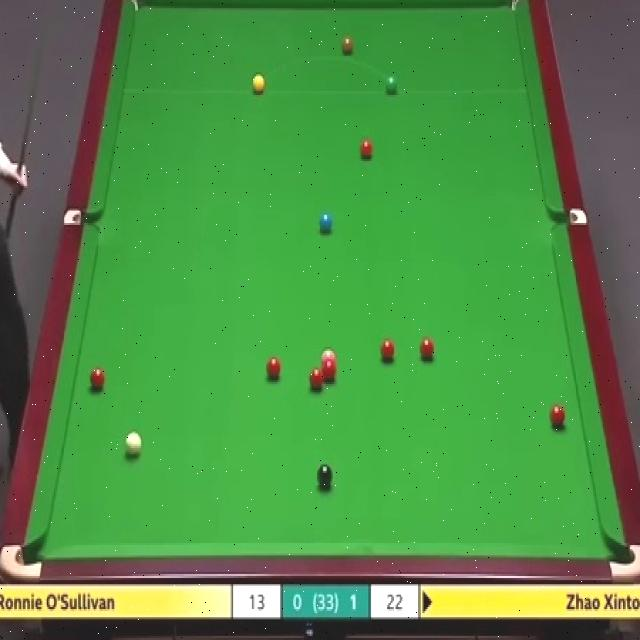black-ball: (317, 462, 334, 489)
blue-ball: (318, 210, 332, 233)
brown-ball: (341, 36, 354, 56)
green-ball: (384, 74, 398, 95)
pink-ball: (320, 349, 337, 364)
red-ball: (90, 365, 106, 392), (549, 406, 567, 428), (379, 338, 395, 362), (320, 361, 338, 382), (265, 357, 281, 380), (419, 337, 434, 361), (358, 138, 374, 160), (309, 369, 325, 390)
white-ball: (125, 429, 144, 460)
yellow-ball: (252, 72, 266, 94)
